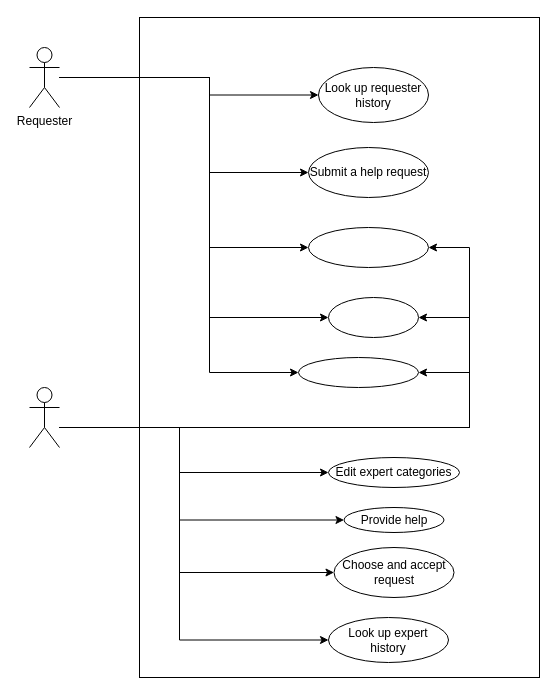
Image size: 557x695. Some labels were removed from this diagram. The centre of each missing label's shape, as x and y in pixels:
Edit user information: the point at 373,317
Expert: the point at 44,417
Log into an app account: the point at 368,247
Register an account: the point at 358,372
